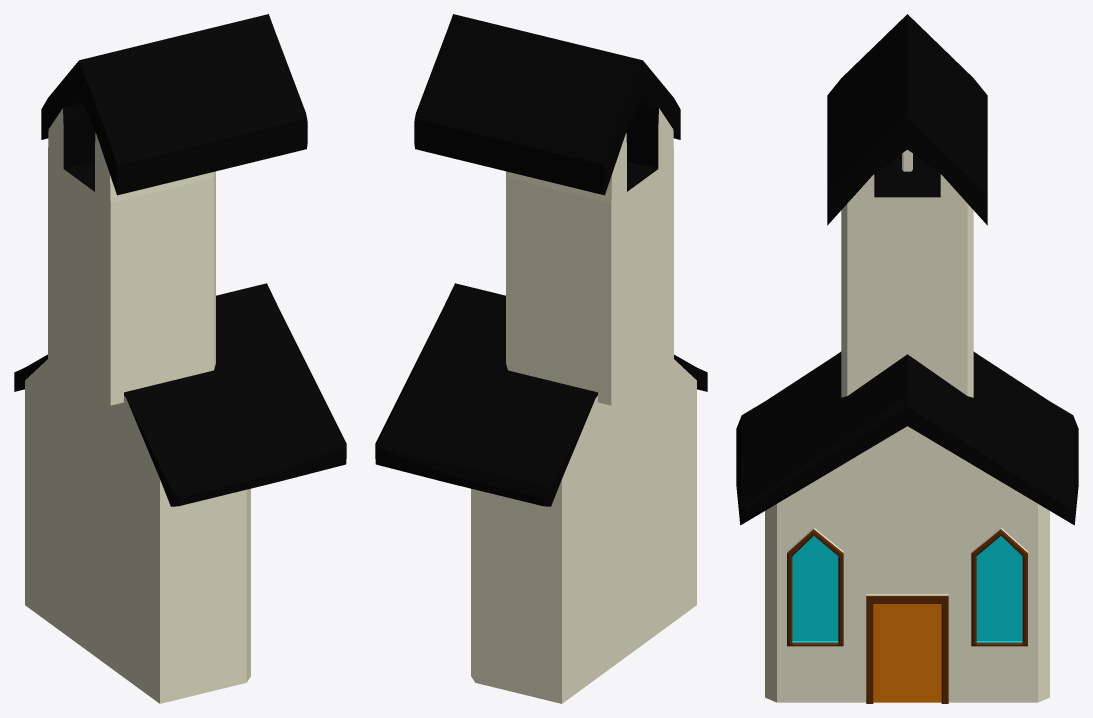
The model's file is church.fbx.
3 views of the same model, side by side, from view 1: azimuth 30°, elevation 25°; view 2: azimuth 150°, elevation 25°; view 3: azimuth 270°, elevation 25° (orthographic). The views are drawn at different scales.
Visible parts, largest first — view 1: Cube.001; view 2: Cube.001; view 3: Cube.001.
Part boxes in pixels (x1,y1,x2,y2): Cube.001: (14,14,346,703); Cube.001: (375,14,707,703); Cube.001: (736,14,1078,703).
Bounding box in the file's own units: 820 × 2445 × 1199.
